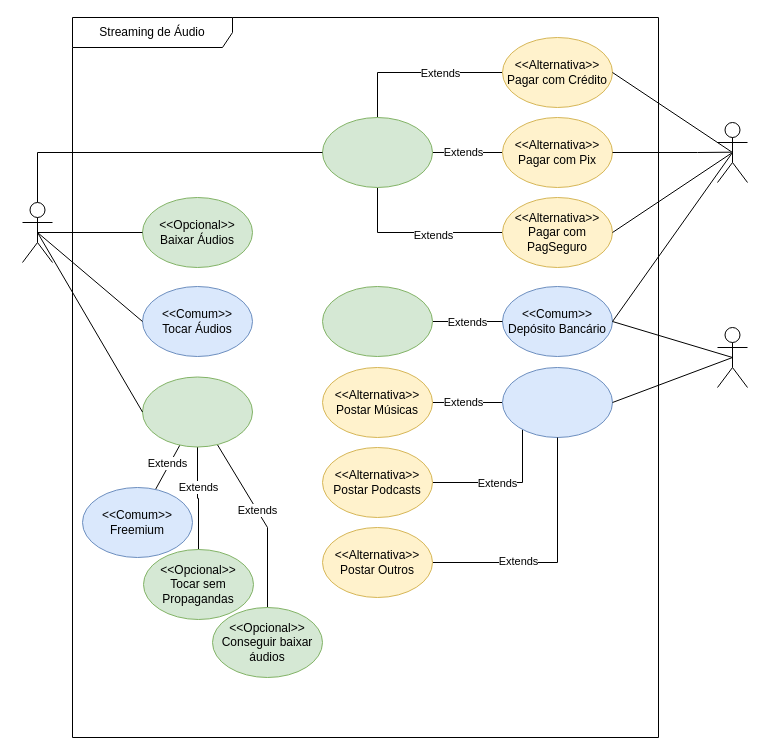
This 780x755 diagram has some shape labels left out. The shapes that lost their labels are listed below. From the top down, each one's centre as x and y in pixels, then its label:
At (377,152): "<<Opcional>> Cobrança".
At (732,152): "Sistema de Pagamento".
At (37,232): "Ouvinte".
At (377,321): "<<Opcional>> Pagamento".
At (732,357): "Uploader".
At (197,411): "<<Opcional>> Assinatura".
At (557,402): "<<Comum>> Postar Áudios".
